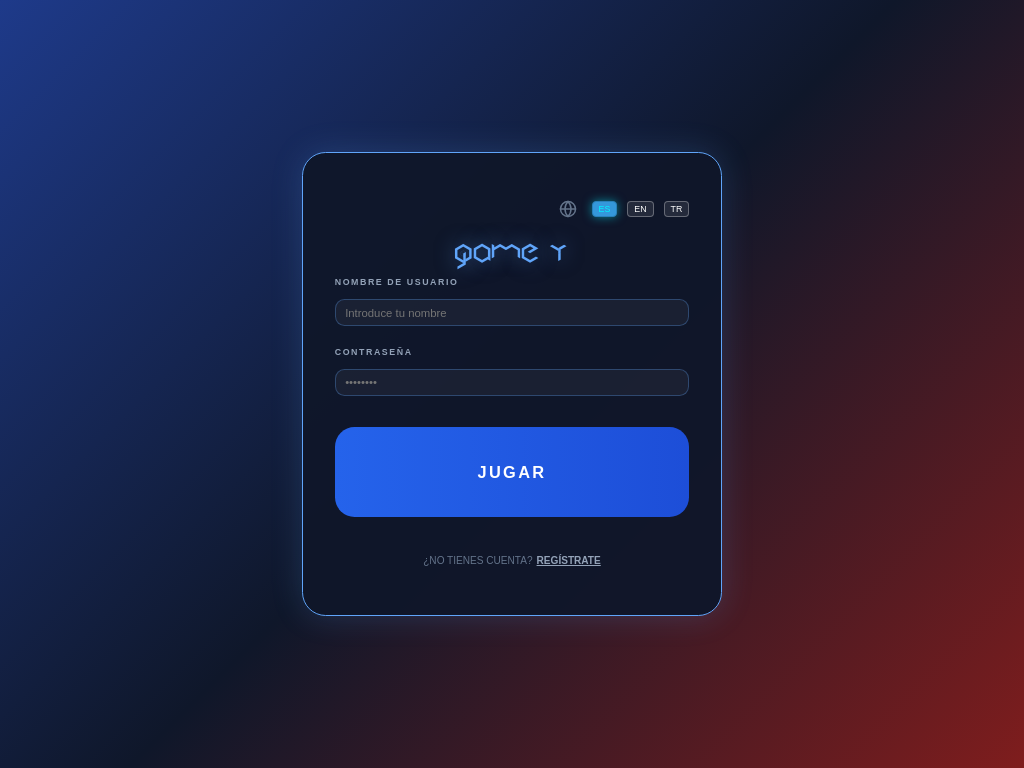
Test: RegisterForm › 1. Shows error when fields are empty
This screenshot has width=1024, height=768.
Click the submit button.
click(512, 472)  # box 335,427 -> 689,517
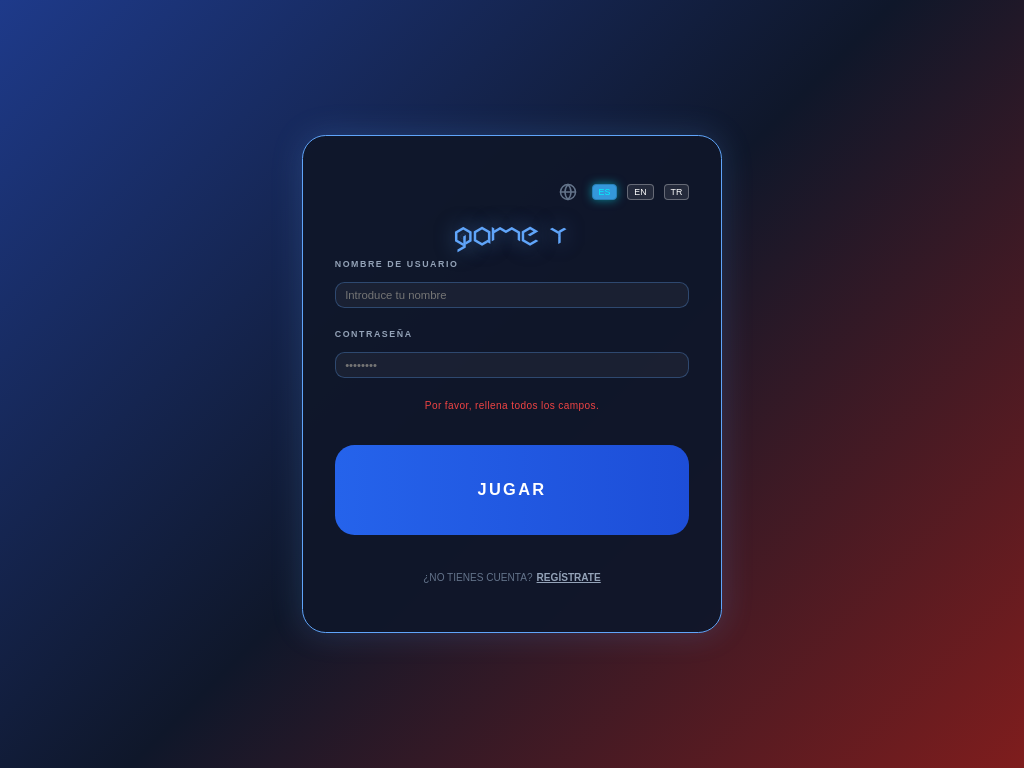
Result: the text "Por favor, rellena todos los campos." is shown at 425,400 -> 599,411
